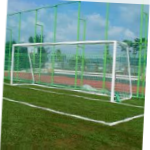goals: (9, 39, 135, 104)
